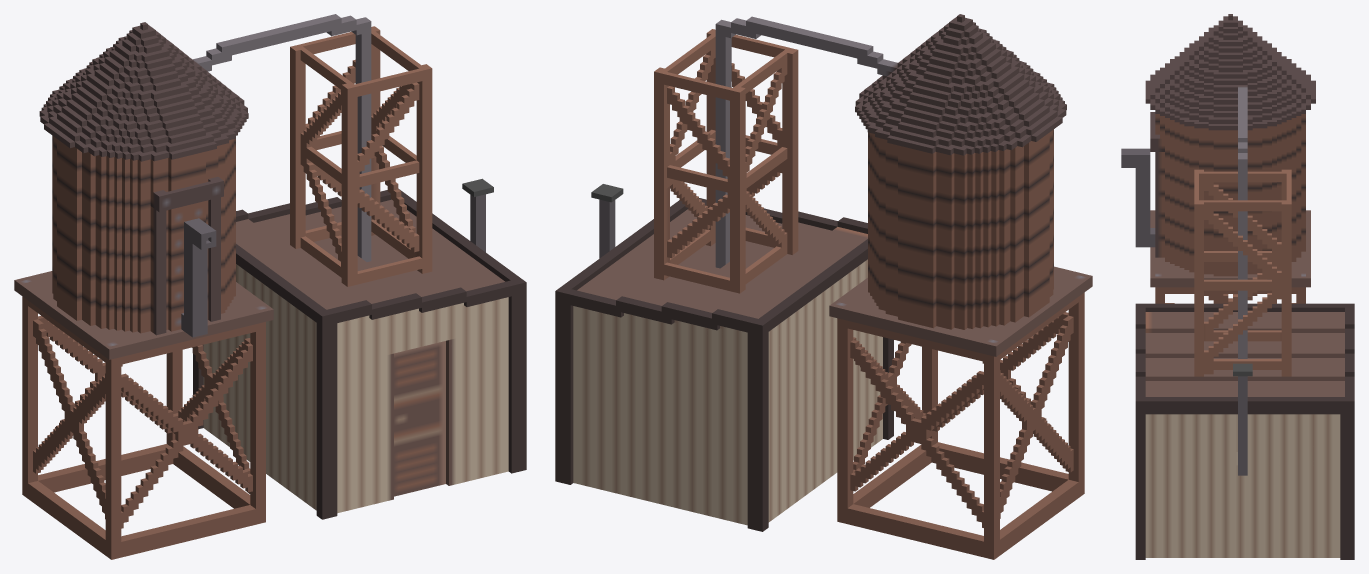
File: water house.obj
The picture shows the model from 3 angles, left to right: view 1: azimuth 30°, elevation 25°; view 2: azimuth 150°, elevation 25°; view 3: azimuth 270°, elevation 25°; orthographic projection. The views are drawn at different scales.
Bounding box in the file's own units: 88 × 93 × 48.
Materials: 1 (1 with a texture image).
